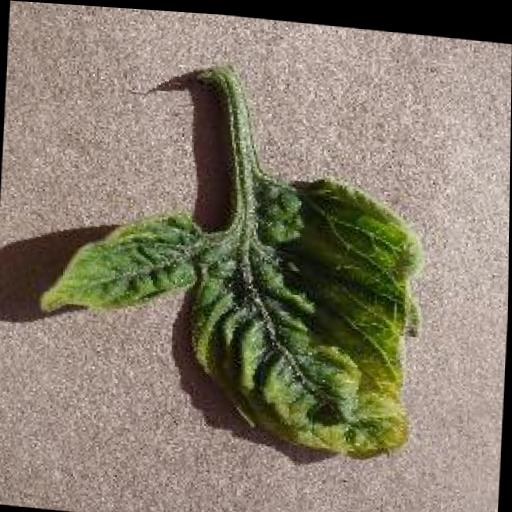Yellow Leaf Curl Virus: (35, 150, 429, 455)
